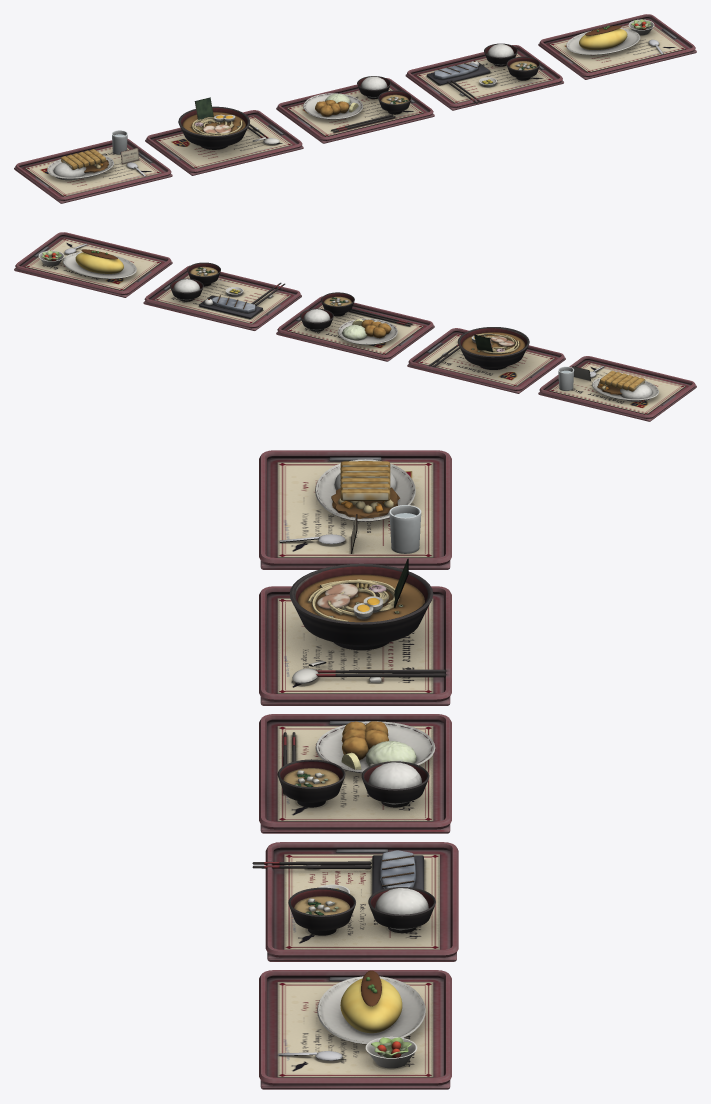
File: ConcessionLunchSets.fbx
3 renders of one model, top to bottom at view 1: azimuth 30°, elevation 25°; view 2: azimuth 150°, elevation 25°; view 3: azimuth 270°, elevation 25°, orthographic. The views are drawn at different scales.
Visible parts, largest first — view 1: ConcessionLunchSets_ShoyuRamen, ConcessionLunchSets_KaraageSet, ConcessionLunchSets_MackerelSet, ConcessionLunchSets_Omurice, ConcessionLunchSets_KatsuCurry, ConcessionLunchSets_KatsuCurry_Glass; view 2: ConcessionLunchSets_ShoyuRamen, ConcessionLunchSets_KaraageSet, ConcessionLunchSets_MackerelSet, ConcessionLunchSets_Omurice, ConcessionLunchSets_KatsuCurry, ConcessionLunchSets_KatsuCurry_Glass; view 3: ConcessionLunchSets_ShoyuRamen, ConcessionLunchSets_MackerelSet, ConcessionLunchSets_KaraageSet, ConcessionLunchSets_Omurice, ConcessionLunchSets_KatsuCurry, ConcessionLunchSets_KatsuCurry_Glass.
Boxes of the visible parts, box(x1,y1,x2,y2) form: ConcessionLunchSets_ShoyuRamen: box(145, 97, 303, 175); ConcessionLunchSets_KaraageSet: box(276, 76, 434, 143); ConcessionLunchSets_MackerelSet: box(405, 43, 563, 110); ConcessionLunchSets_Omurice: box(538, 14, 696, 79); ConcessionLunchSets_KatsuCurry: box(14, 134, 172, 203); ConcessionLunchSets_KatsuCurry_Glass: box(112, 130, 127, 154); ConcessionLunchSets_ShoyuRamen: box(407, 327, 565, 393); ConcessionLunchSets_KaraageSet: box(276, 292, 434, 361); ConcessionLunchSets_MackerelSet: box(143, 262, 301, 330); ConcessionLunchSets_Omurice: box(14, 232, 172, 297); ConcessionLunchSets_KatsuCurry: box(538, 356, 696, 421); ConcessionLunchSets_KatsuCurry_Glass: box(558, 366, 574, 390); ConcessionLunchSets_ShoyuRamen: box(259, 558, 451, 705); ConcessionLunchSets_MackerelSet: box(252, 842, 458, 961); ConcessionLunchSets_KaraageSet: box(259, 714, 451, 833); ConcessionLunchSets_Omurice: box(259, 970, 451, 1089); ConcessionLunchSets_KatsuCurry: box(259, 450, 451, 569); ConcessionLunchSets_KatsuCurry_Glass: box(389, 505, 421, 553).
Size of the model in its own units: 738 by 42.9 by 103.
